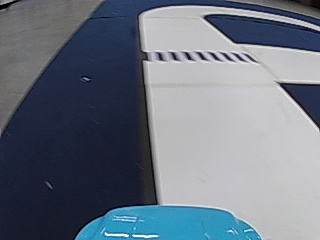CrossWalk: (149, 48, 256, 64)
